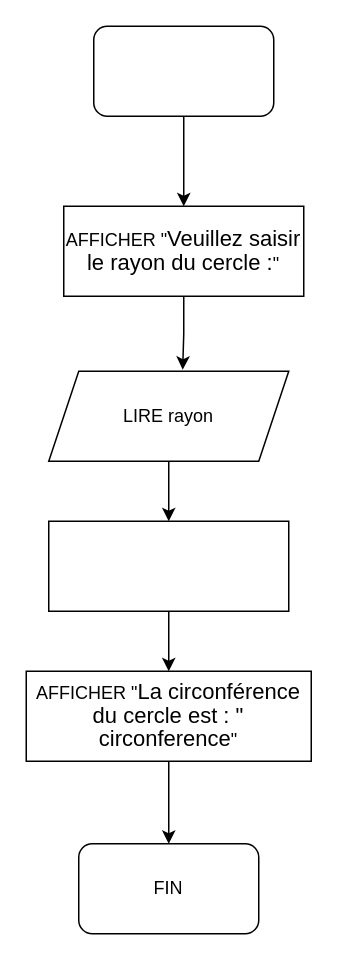
Some shapes in this 338 by 960 pixel diagram are drawn without their labels. Each missing label, with the centre of its shape:
"CALCULER circonference = 2 * PI * rayon" belongs at [168,565].
"DÉBUT" belongs at [183,70].
